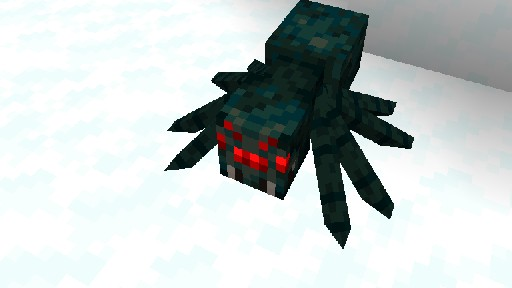cave_spider: (161, 0, 420, 254)
